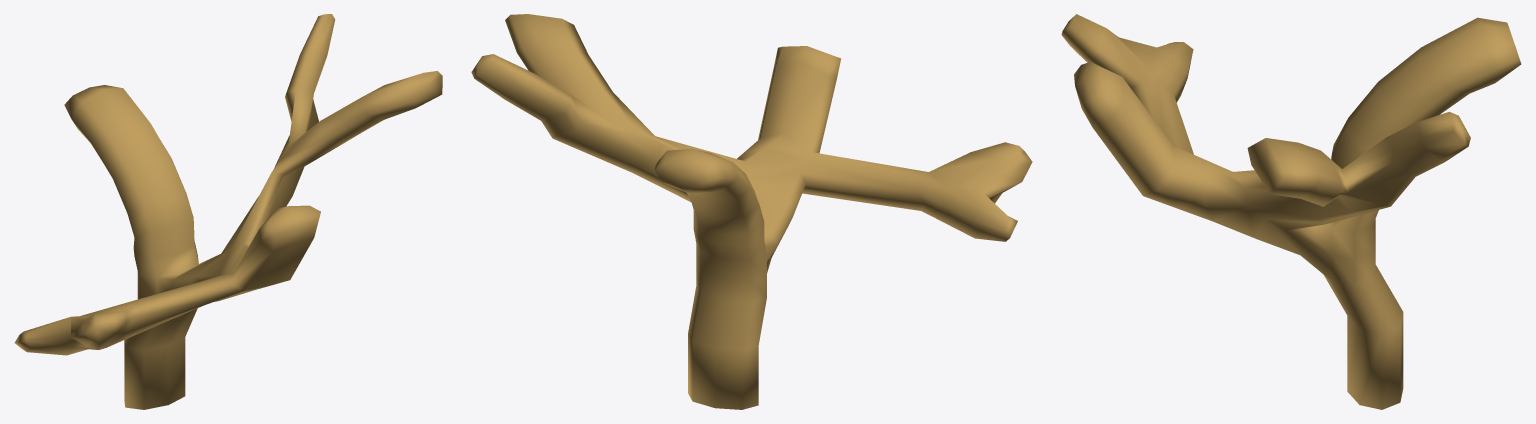
The model's file is SM_largeBranchCoral.fbx.
3 views of the same model, side by side, from view 1: azimuth 30°, elevation 25°; view 2: azimuth 150°, elevation 25°; view 3: azimuth 270°, elevation 25° (orthographic). The views are drawn at different scales.
Visible parts, largest first — view 1: Cube.001; view 2: Cube.001; view 3: Cube.001.
Boxes of the visible parts, box(x1,y1,x2,y2) form: Cube.001: box(14, 14, 442, 409); Cube.001: box(471, 14, 1032, 409); Cube.001: box(1061, 14, 1521, 409).
Bounding box in the file's own units: 38.49 × 24.92 × 25.84.
